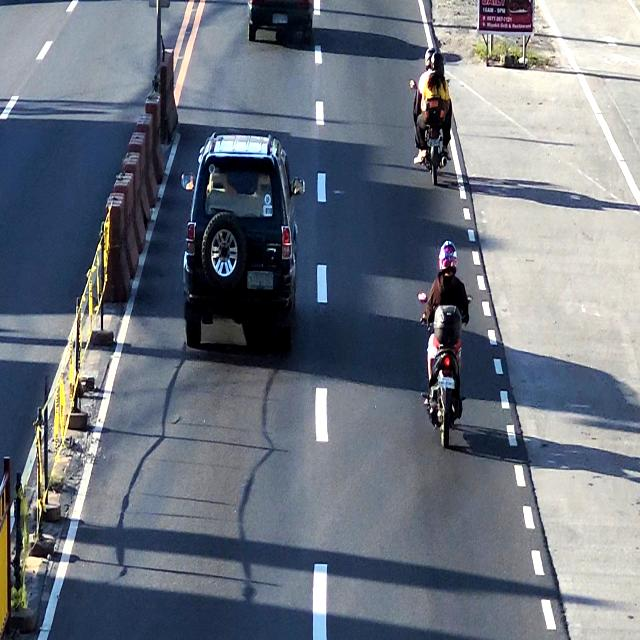Car: (183, 135, 296, 358)
License-Plate: (246, 270, 276, 295), (436, 373, 456, 393), (273, 13, 290, 24)
Motorcycle: (423, 238, 470, 453), (415, 44, 447, 179)
